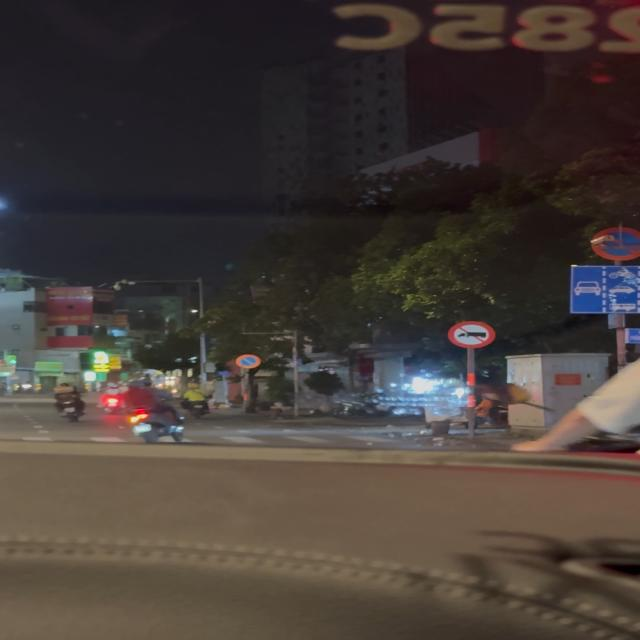Bien bao cam xe so-mi ro-mooc: (443, 321, 502, 352)
